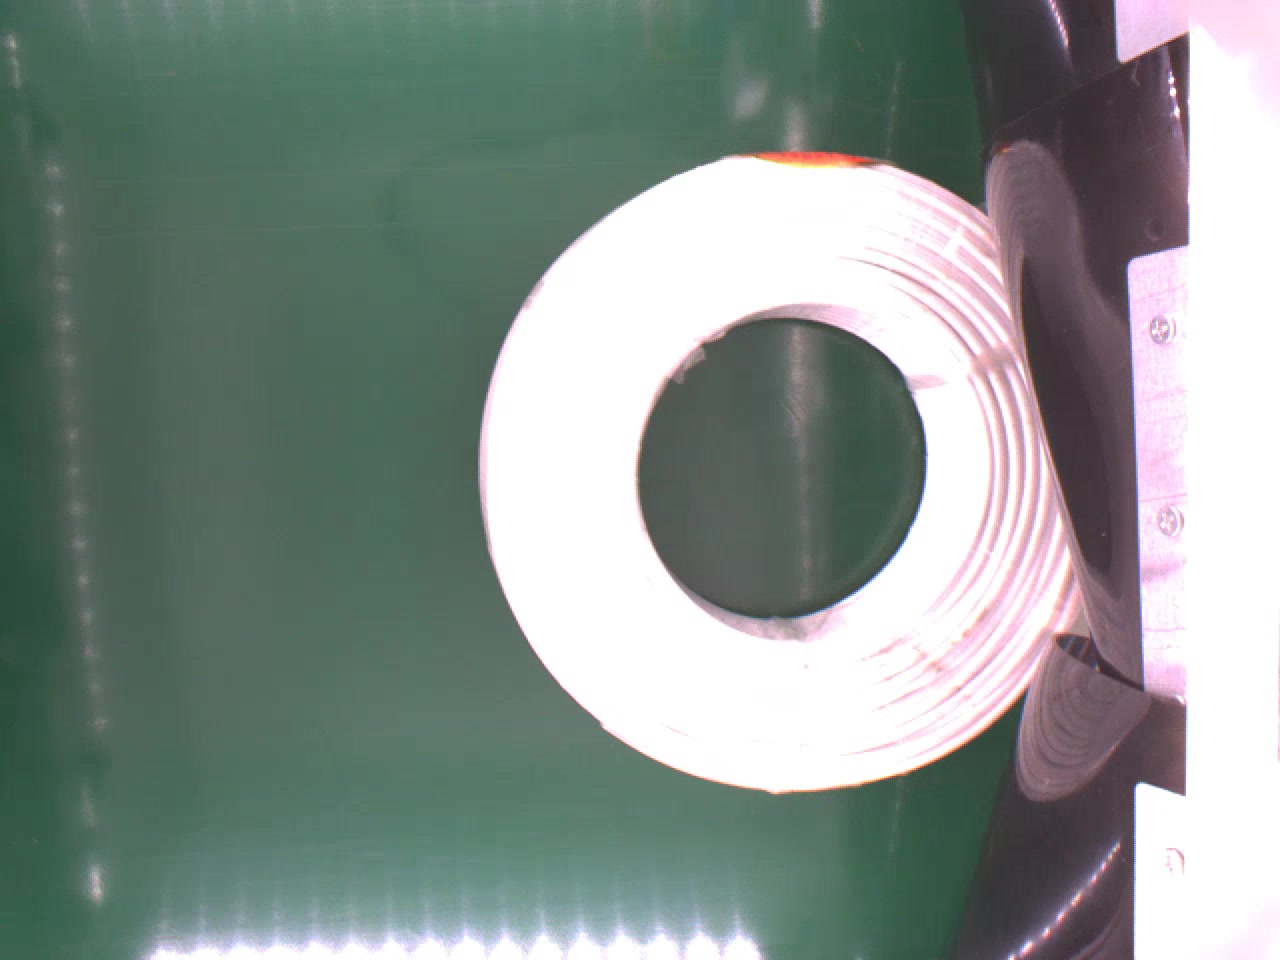white: (477, 144, 1081, 793)
